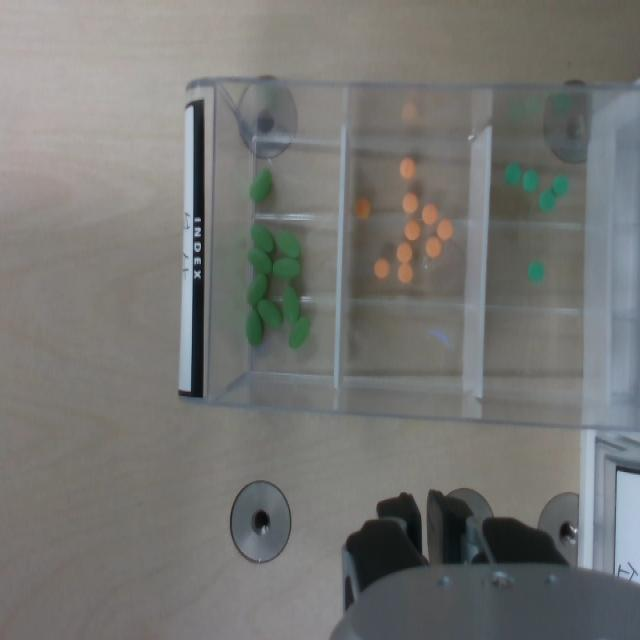famodine: (552, 173, 569, 197), (504, 162, 521, 184), (522, 169, 539, 191), (540, 191, 555, 212), (529, 262, 544, 282)
otillen_tab: (274, 228, 301, 258), (250, 222, 275, 254), (250, 168, 272, 203), (251, 223, 274, 255), (251, 167, 272, 202), (247, 273, 268, 307), (257, 300, 282, 328), (290, 316, 309, 352), (258, 300, 283, 327), (247, 274, 268, 306), (289, 316, 310, 348), (248, 247, 272, 274), (246, 309, 263, 347), (282, 287, 299, 324), (276, 231, 300, 257), (248, 248, 271, 275), (273, 257, 300, 279), (272, 258, 301, 278), (283, 285, 299, 321), (247, 309, 262, 345)
samsung_octylonium_tab: (354, 196, 370, 219), (426, 236, 442, 258), (400, 157, 415, 179), (403, 192, 418, 214), (398, 263, 414, 283), (422, 204, 437, 225), (437, 219, 452, 240), (397, 242, 412, 263), (405, 221, 421, 240), (375, 259, 389, 278)
